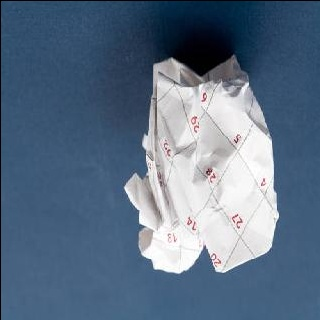8/可回收垃圾/纸: (122, 53, 280, 275)
